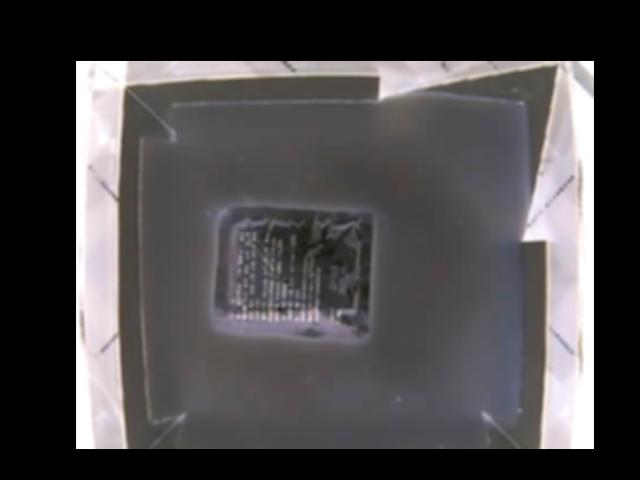Medicine: (213, 204, 369, 339)
